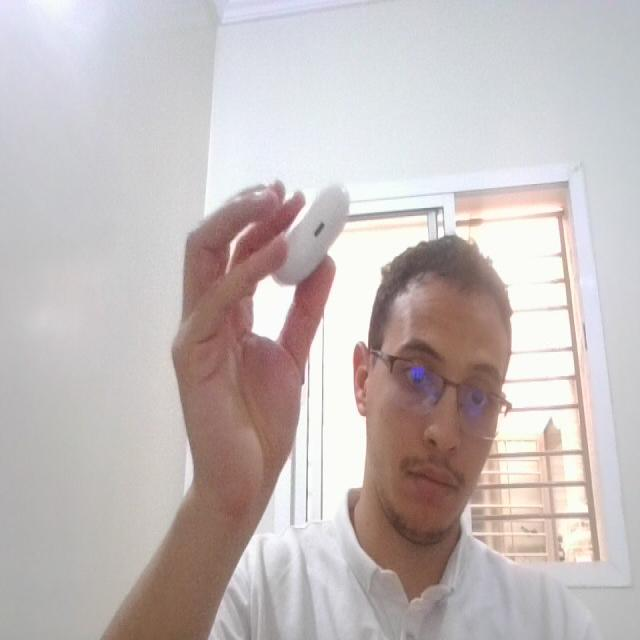airpods: (273, 177, 355, 292)
